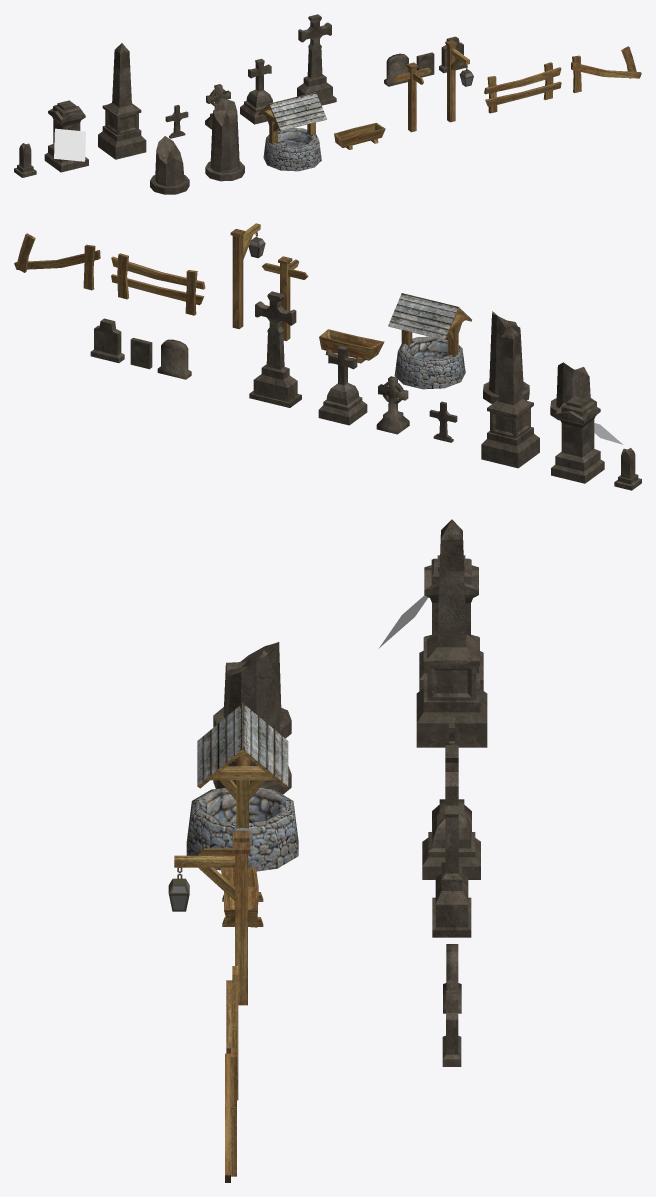
File: rts_props (2).dae
The picture shows the model from 3 angles, top to bottom: view 1: azimuth 30°, elevation 25°; view 2: azimuth 150°, elevation 25°; view 3: azimuth 270°, elevation 25°; orthographic projection. The views are drawn at different scales.
Visible parts, largest first — view 1: CoveredWell, Obelisk3, BrokenPillar2, Cross4, BrokenPillar1, Fence1, Obelisk2, Cross3, LampPost, Fence2, Plane, RoadSign (+7 smaller); view 2: CoveredWell, Obelisk3, Obelisk2, Cross4, Fence1, Cross3, LampPost, Fence2, BrokenPillar2, BrokenPillar1, Trough, Cross2 (+6 smaller); view 3: CoveredWell, Obelisk3, Cross4, LampPost, BrokenPillar2, Cross3, Obelisk2, Fence2, Trough, Tombstone3, BrokenPillar1, Fence1.
Part boxes in pixels (bbox=[...]): CoveredWell: bbox=[258, 92, 326, 171]; Obelisk3: bbox=[98, 43, 146, 159]; BrokenPillar2: bbox=[205, 98, 244, 181]; Cross4: bbox=[297, 14, 336, 105]; BrokenPillar1: bbox=[150, 136, 189, 194]; Fence1: bbox=[484, 62, 561, 113]; Obelisk2: bbox=[44, 100, 88, 172]; Cross3: bbox=[240, 58, 272, 124]; LampPost: bbox=[445, 40, 473, 122]; Fence2: bbox=[571, 46, 641, 93]; Plane: bbox=[54, 128, 85, 161]; RoadSign: bbox=[393, 62, 431, 132]; CoveredWell: bbox=[388, 293, 471, 389]; Obelisk3: bbox=[481, 326, 539, 468]; Obelisk2: bbox=[551, 396, 604, 483]; Cross4: bbox=[249, 291, 301, 407]; Fence1: bbox=[111, 253, 205, 315]; Cross3: bbox=[318, 345, 367, 425]; LampPost: bbox=[230, 223, 265, 329]; Fence2: bbox=[14, 233, 100, 290]; BrokenPillar2: bbox=[483, 311, 529, 403]; BrokenPillar1: bbox=[550, 362, 596, 420]; Trough: bbox=[319, 329, 384, 363]; Cross2: bbox=[376, 376, 409, 434]; CoveredWell: bbox=[186, 703, 298, 871]; Obelisk3: bbox=[416, 519, 487, 747]; Cross4: bbox=[432, 745, 471, 937]; LampPost: bbox=[168, 842, 250, 1005]; BrokenPillar2: bbox=[213, 646, 291, 794]; Cross3: bbox=[422, 813, 480, 879]; Obelisk2: bbox=[419, 555, 483, 691]; Fence2: bbox=[225, 1048, 236, 1182]; Trough: bbox=[220, 867, 263, 927]; Tombstone3: bbox=[442, 991, 461, 1066]; BrokenPillar1: bbox=[213, 642, 291, 738]; Fence1: bbox=[226, 966, 238, 1100].
Size of the model in its own units: 41.12 by 10 by 7.43.
